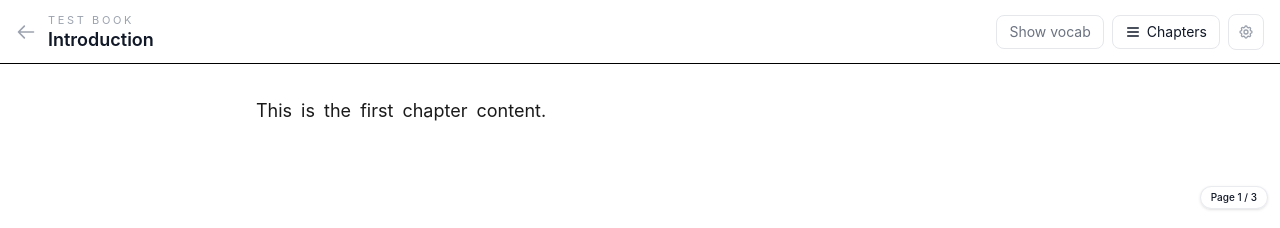
it: ReaderPage › navigates to next chapter on next click
Click the button "Chapters" at (1166, 32), box [1112,14,1220,48]
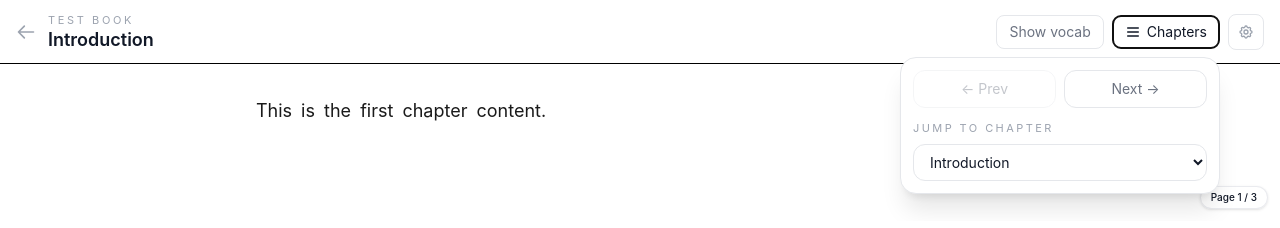
Click the button "Next →" at (1136, 88), box [1064,70,1207,108]
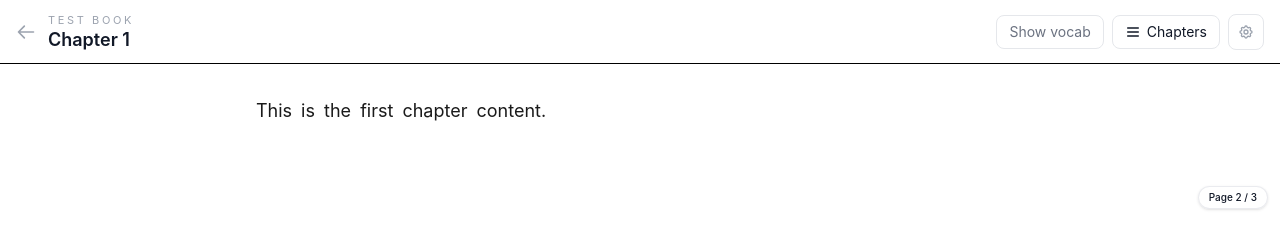
Result: the heading "Chapter 1" is shown at [48,28,134,51]
